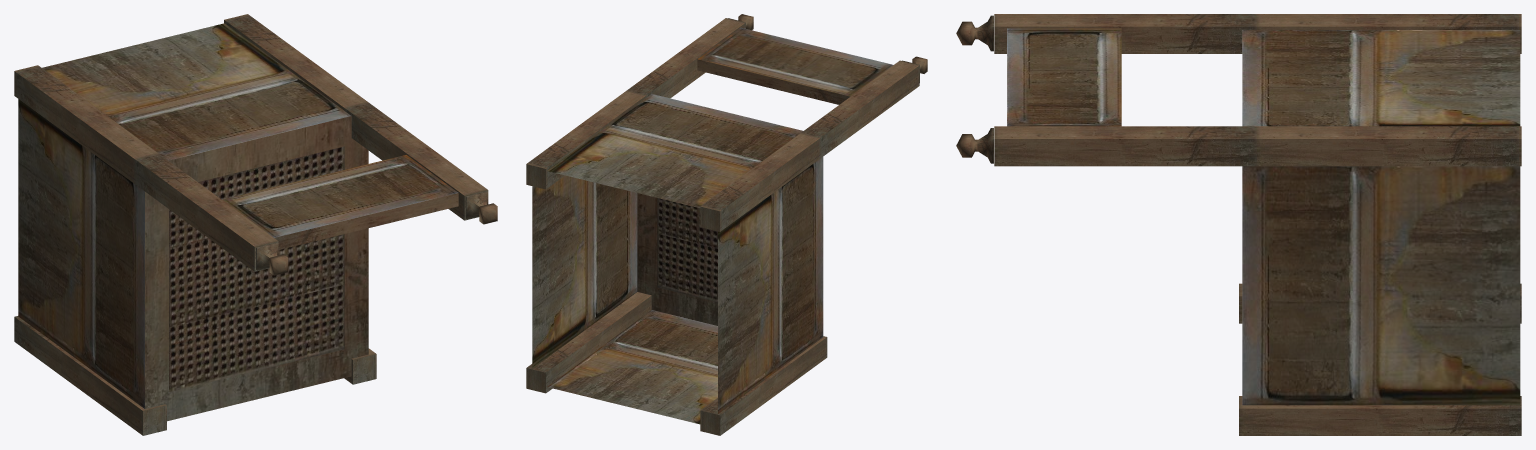
File: furniture_northafrica_woodchair.glb
3 renders of one model, left to right at view 1: azimuth 30°, elevation 25°; view 2: azimuth 150°, elevation 25°; view 3: azimuth 270°, elevation 25°, orthographic. The views are drawn at different scales.
Bounding box in the file's own units: 22.99 × 25.44 × 43.92.
1 material, 1 textured.
